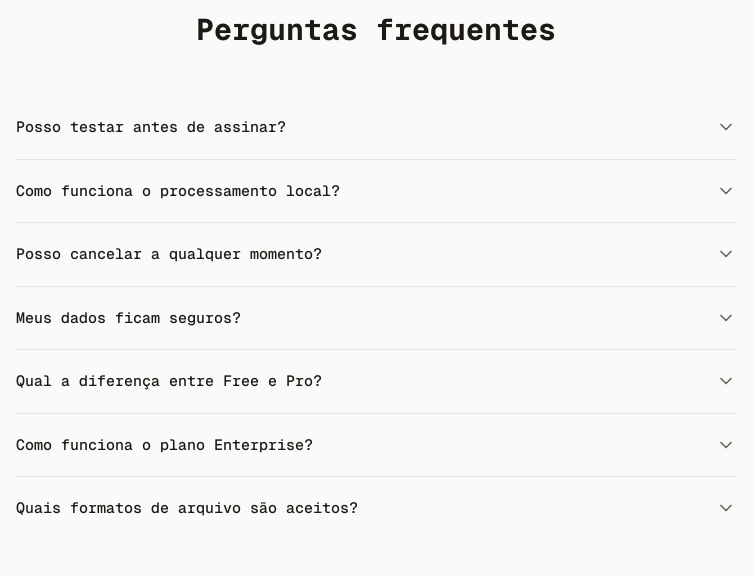
Test case: PricingFAQ › aria-expanded state › clicking an open button collapses it (toggle)
What coordinates should you click on to do the following:
click the button "Posso testar antes de assinar?"
I would click on:
 (151, 126)
Its box is x1=16 y1=96 x2=736 y2=158.
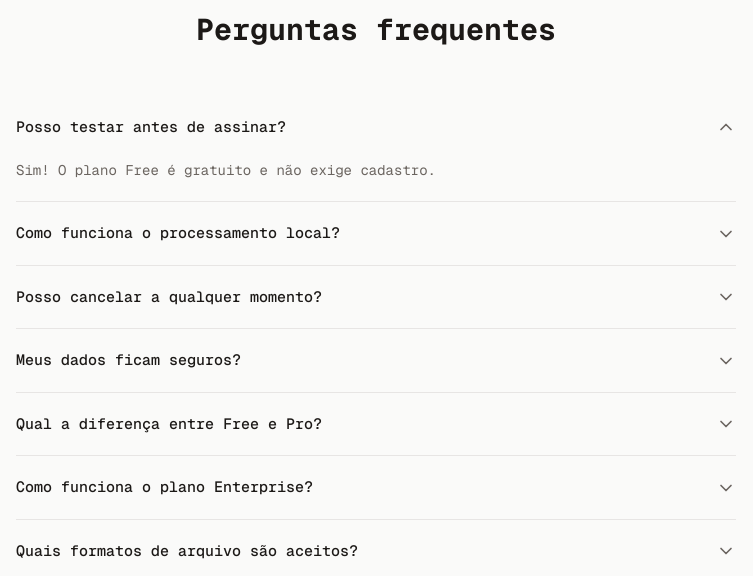
Result: the button "Posso testar antes de assinar?" is expanded
What coordinates should you click on to do the following:
click the button "Posso testar antes de assinar?"
I would click on:
 (151, 126)
Its box is x1=16 y1=96 x2=736 y2=158.
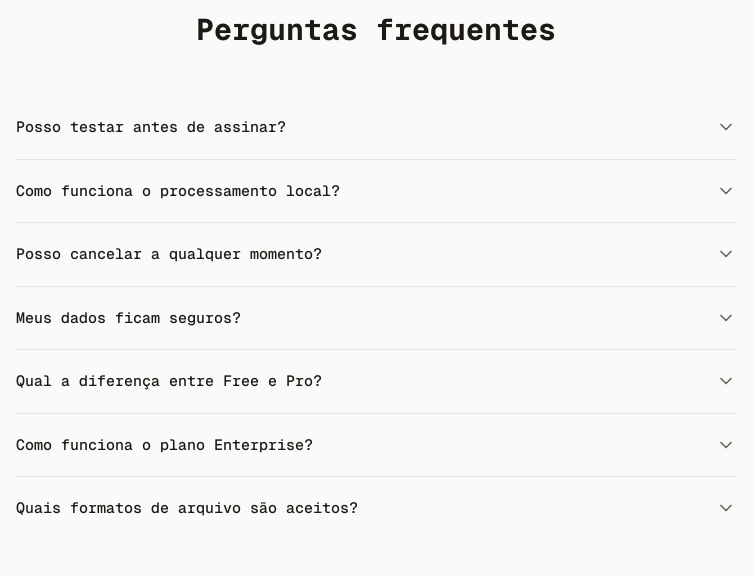
Result: the button "Posso testar antes de assinar?" is collapsed at x1=16 y1=96 x2=736 y2=158
